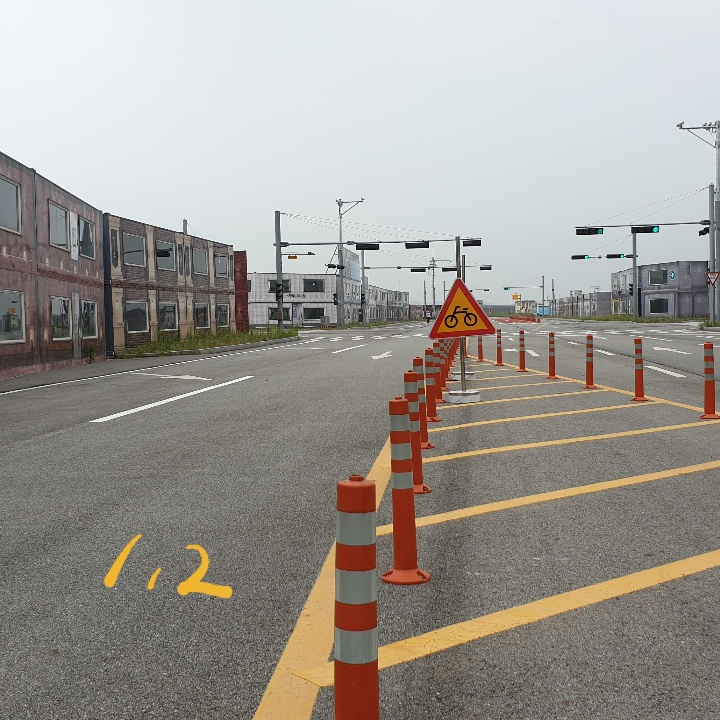bicycle: (430, 276, 498, 336)
